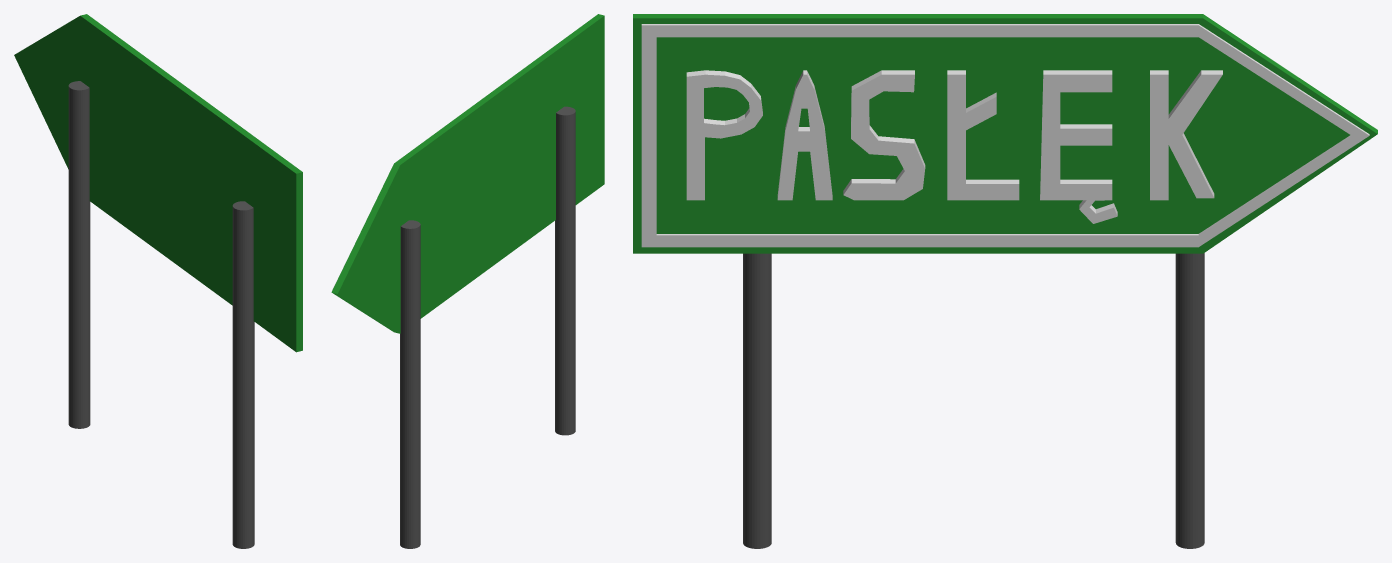
The model's file is znak-prawy.fbx.
3 views of the same model, side by side, from view 1: azimuth 30°, elevation 25°; view 2: azimuth 150°, elevation 25°; view 3: azimuth 270°, elevation 25° (orthographic). The views are drawn at different scales.
Visible parts, largest first — view 1: Cube.002, Cylinder.004, Cylinder.005; view 2: Cube.002, Cylinder.005, Cylinder.004; view 3: Cube.002, Cube.004, Cube.005, Cylinder.005, Cylinder.004.
Part boxes in pixels (x1,y1,x2,y2): Cube.002: (14, 14, 302, 352); Cylinder.004: (232, 201, 254, 548); Cylinder.005: (68, 81, 90, 428); Cube.002: (331, 14, 604, 333); Cylinder.005: (400, 220, 420, 548); Cylinder.004: (555, 106, 575, 435); Cube.002: (633, 14, 1377, 253); Cube.004: (686, 70, 1222, 223); Cube.005: (641, 24, 1369, 247); Cylinder.005: (1175, 253, 1204, 548); Cylinder.004: (743, 253, 771, 548).
Size of the model in its own units: 36.13 by 488 by 618.
